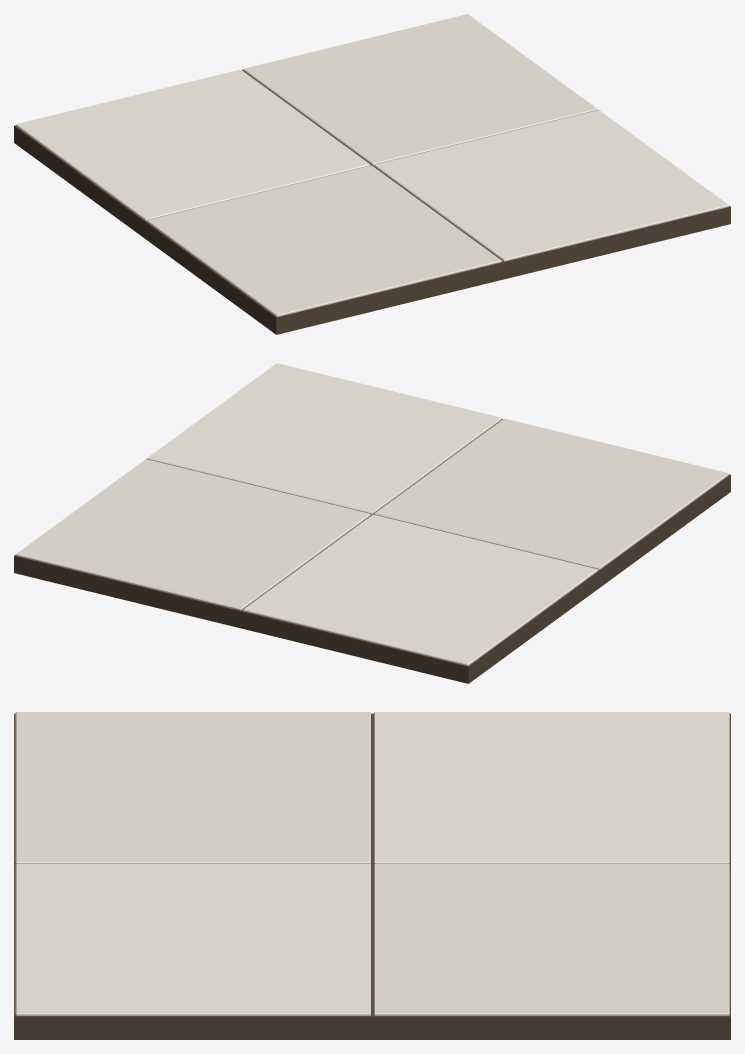
The model's file is piso_losas.glb.
3 renders of one model, top to bottom at view 1: azimuth 30°, elevation 25°; view 2: azimuth 150°, elevation 25°; view 3: azimuth 270°, elevation 25°, orthographic. The views are drawn at different scales.
Parts seen in each view (by area): view 1: piso_losas; view 2: piso_losas; view 3: piso_losas.
Part boxes in pixels (x1,y1,x2,y2): piso_losas: [14, 14, 730, 334]; piso_losas: [14, 363, 730, 683]; piso_losas: [14, 712, 730, 1039].
Size of the model in its own units: 1 by 0.04 by 1.
